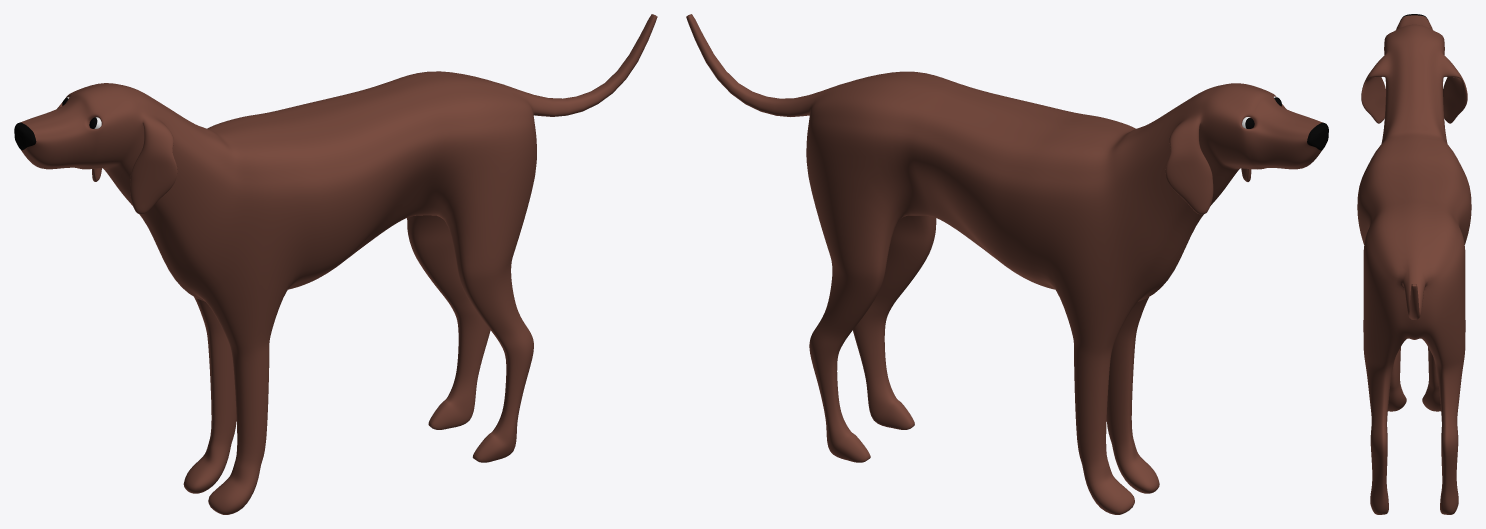
Rendered from Dog.fbx.
3 views of the same model, side by side, from view 1: azimuth 30°, elevation 25°; view 2: azimuth 150°, elevation 25°; view 3: azimuth 270°, elevation 25° (orthographic). The views are drawn at different scales.
Parts seen in each view (by area): view 1: BodyPoly; view 2: BodyPoly; view 3: BodyPoly.
Boxes of the visible parts, <box> form: BodyPoly: <box>14,14,657,514</box>; BodyPoly: <box>686,14,1328,514</box>; BodyPoly: <box>1357,14,1471,514</box>.
Bounding box in the file's own units: 32.02 × 21.25 × 6.42.
